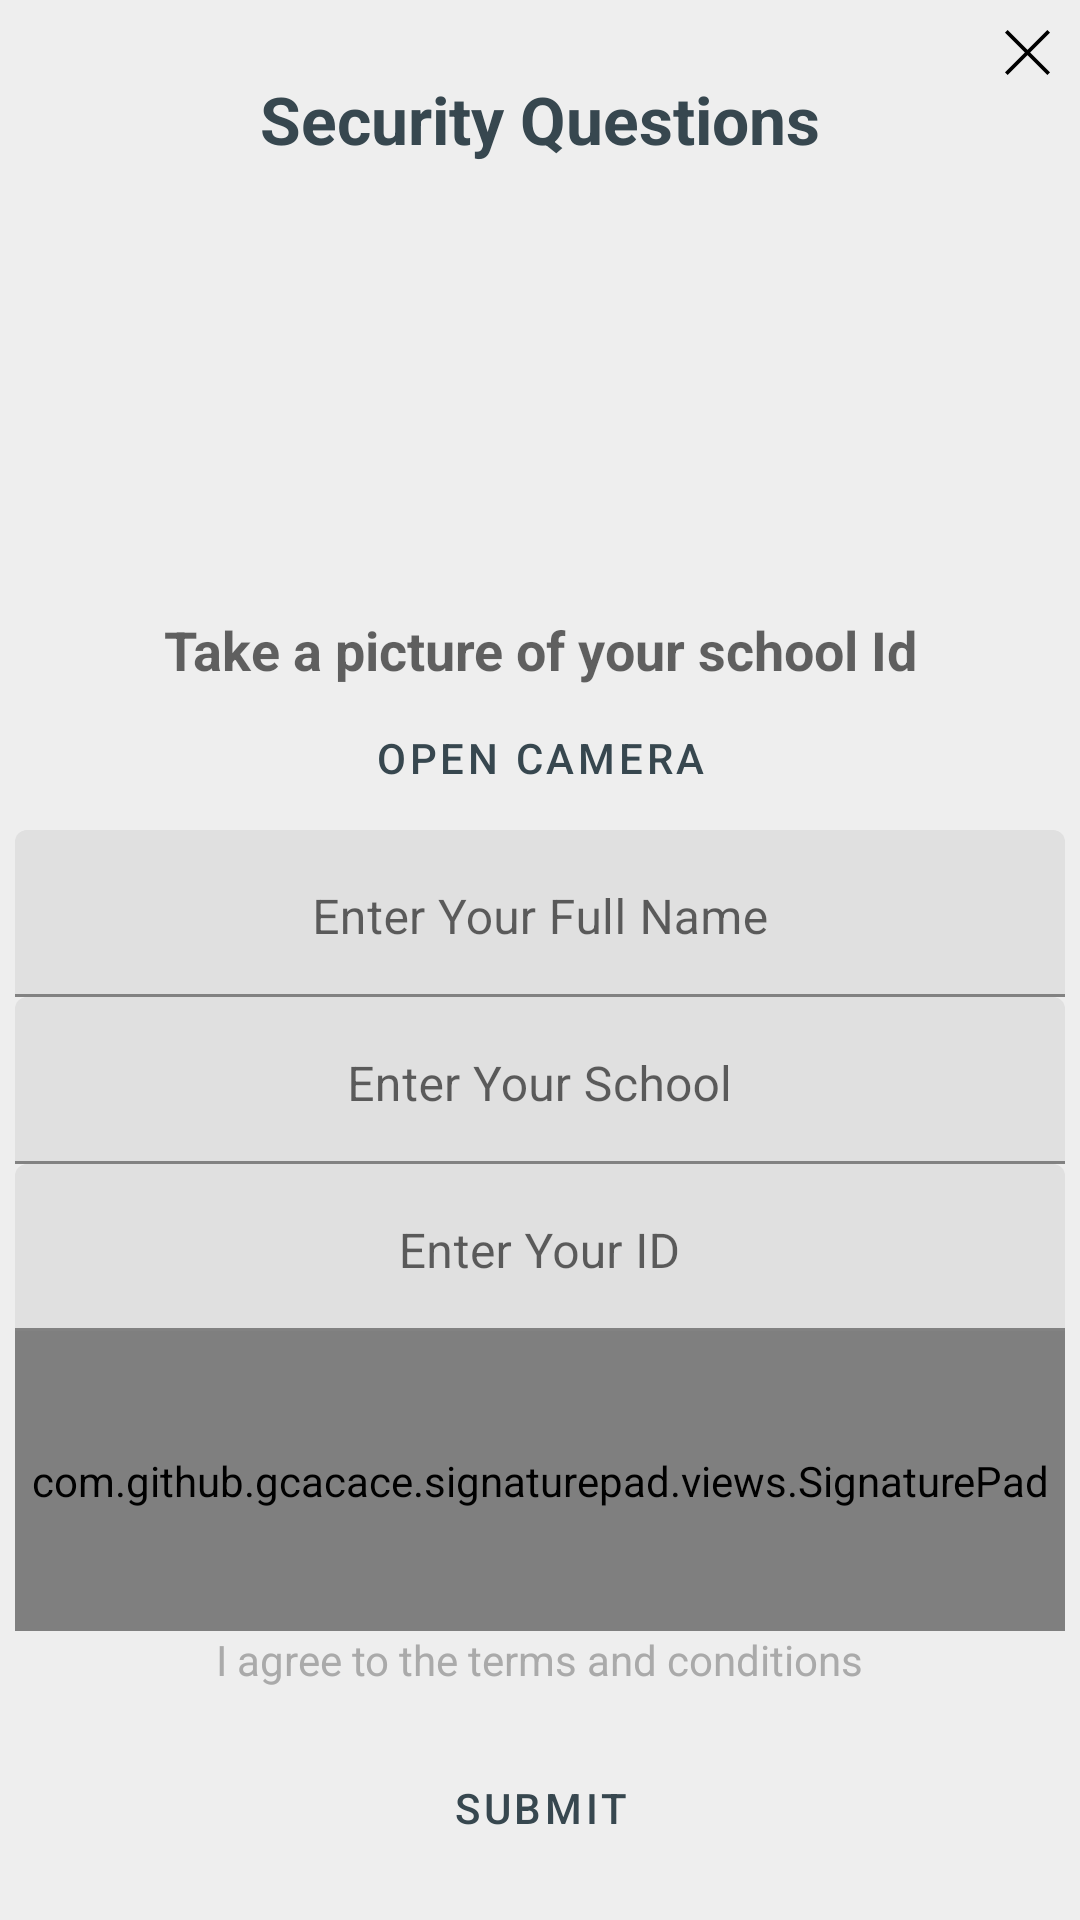

Icons on this 1080px×1920px Android screen, each with its box as (x1, y1, x2, y2):
exit: (1005, 30, 1050, 75)
